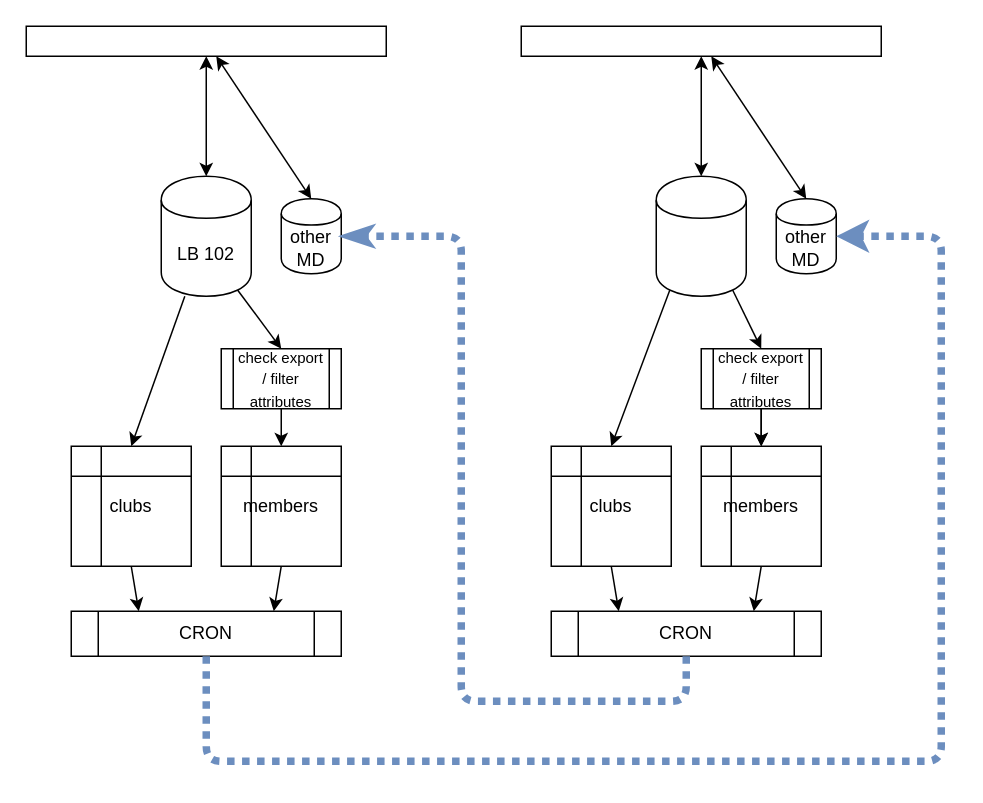
Some shapes in this 983 by 803 pixel diagram are drawn without their labels. The box of each missing label's shape, as (x1, y1, x2, y2) in pixels:
API MD 102: (25, 25, 386, 56)
API MD 114: (520, 25, 881, 56)
LB 114: (655, 175, 746, 296)
